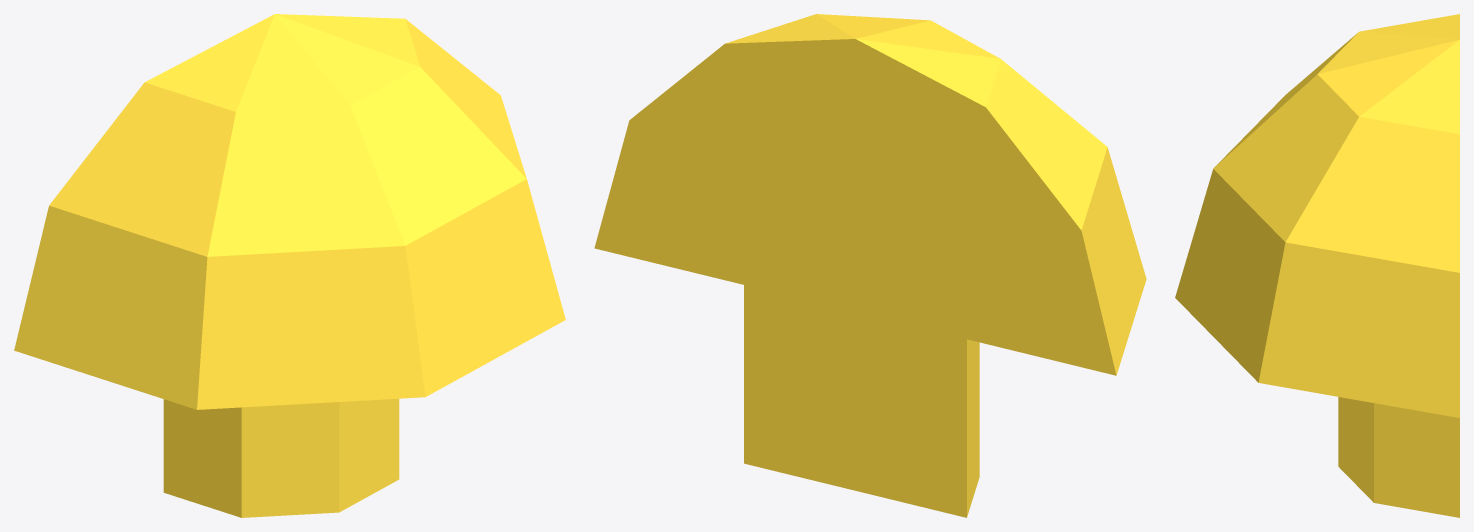
Rendered from centerGoldMushroom.gltf.
3 views of the same model, side by side, from view 1: azimuth 30°, elevation 25°; view 2: azimuth 150°, elevation 25°; view 3: azimuth 270°, elevation 25° (orthographic). The views are drawn at different scales.
Visible parts, largest first — view 1: CenterGoldMushroom; view 2: CenterGoldMushroom; view 3: CenterGoldMushroom.
Boxes of the visible parts, x1,y1,x2,y2 form: CenterGoldMushroom: [14, 14, 565, 517]; CenterGoldMushroom: [594, 14, 1146, 517]; CenterGoldMushroom: [1175, 14, 1459, 517].
Size of what is drawn, in the model's own units: 1.13 by 0.9363 by 0.5661.
